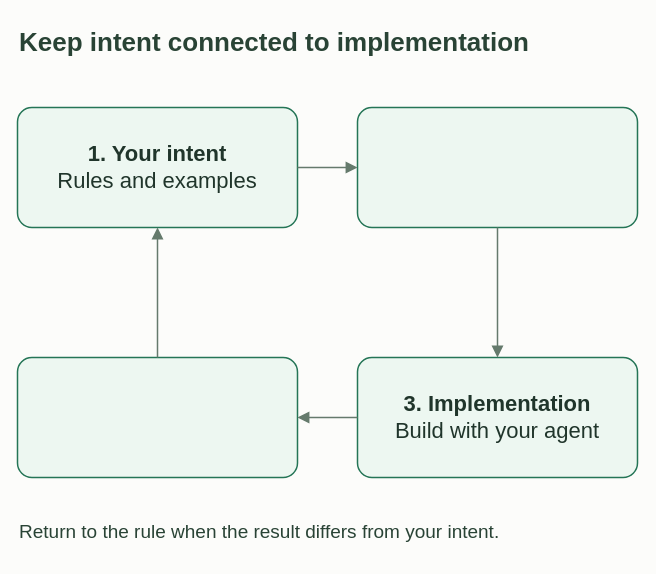
Image size: 656x574. Some labels were removed from this diagram. Here are the shapes that lost their labels. From the top down, the centre of each, then its label:
At point 497,167: "2. Shared model Actions and outcomes".
At point 157,417: "4. Evidence Inspect, test, accept".
